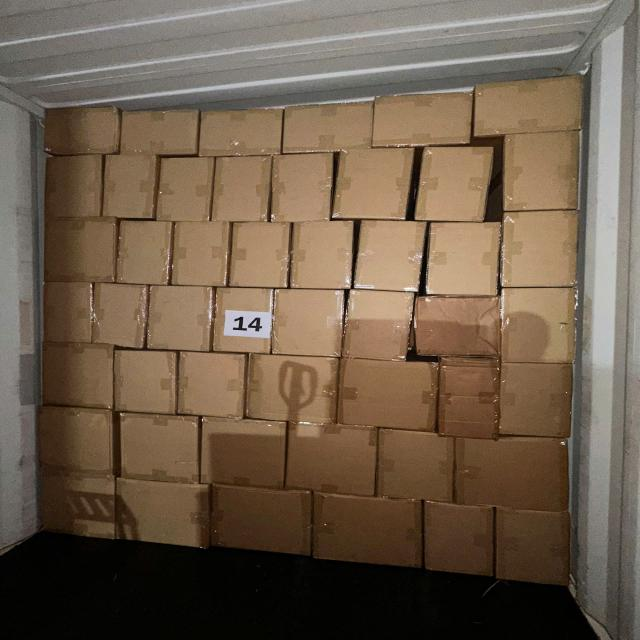Carton: (458, 433, 576, 511), (312, 493, 424, 573), (208, 487, 311, 562), (337, 359, 438, 435), (112, 481, 211, 555), (288, 422, 380, 498), (477, 78, 588, 140), (246, 355, 340, 426), (34, 468, 120, 542), (504, 132, 582, 212), (199, 419, 285, 491), (502, 285, 580, 364), (503, 207, 581, 286), (494, 510, 571, 590), (376, 428, 456, 504), (421, 147, 496, 226), (117, 412, 200, 483), (374, 91, 472, 150), (501, 359, 575, 436), (421, 500, 494, 578), (428, 222, 502, 298), (414, 296, 501, 359), (337, 147, 412, 220), (36, 406, 114, 475), (39, 340, 114, 408), (275, 290, 346, 361), (356, 218, 424, 292), (42, 216, 117, 283), (342, 292, 411, 364), (439, 359, 501, 438), (180, 349, 248, 418), (284, 103, 374, 154), (146, 282, 212, 350), (291, 218, 354, 288), (272, 156, 334, 226), (40, 104, 122, 156), (210, 287, 271, 356), (197, 108, 281, 158), (113, 348, 176, 414), (231, 220, 292, 288), (212, 158, 271, 226), (174, 218, 233, 286), (44, 156, 103, 221), (156, 158, 212, 226), (119, 110, 198, 158), (105, 152, 161, 219), (91, 280, 146, 348), (117, 218, 171, 286), (43, 283, 93, 346)
